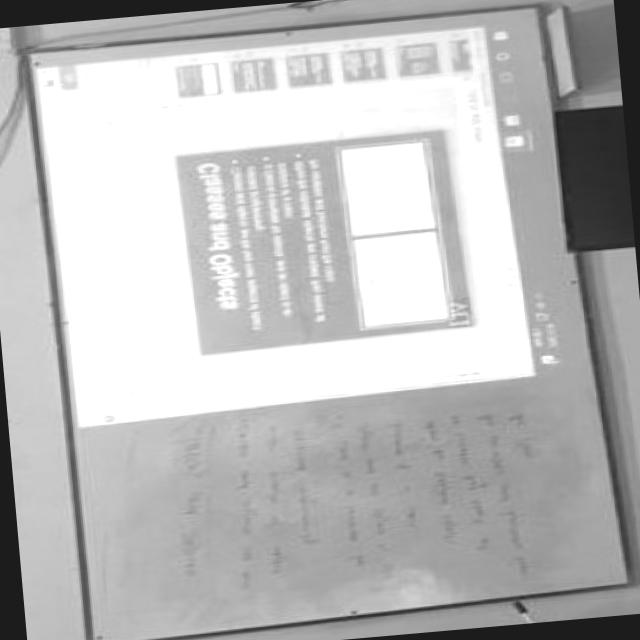Slide: (34, 21, 576, 425)
White-board: (17, 3, 639, 640)
